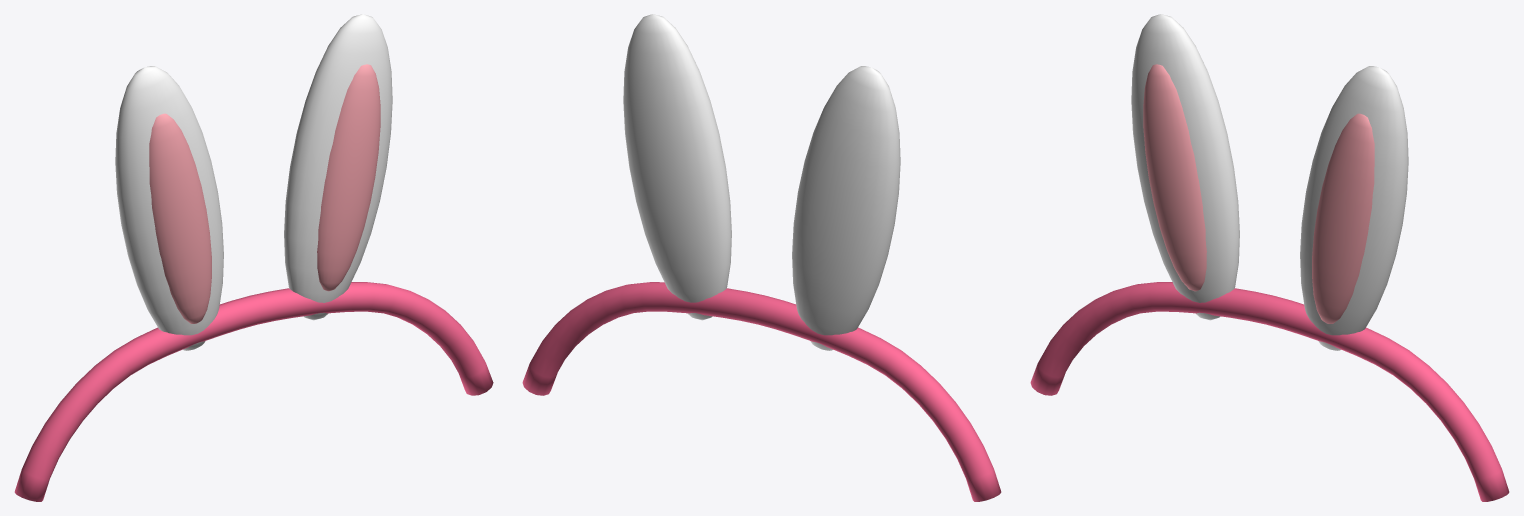
The model's file is bunny_ears.fbx.
3 views of the same model, side by side, from view 1: azimuth 30°, elevation 25°; view 2: azimuth 150°, elevation 25°; view 3: azimuth 330°, elevation 25° (orthographic).
Parts seen in each view (by area): view 1: BunnyEar (×2), BunnyEarIn (×2), BunnyBand; view 2: BunnyEar (×2), BunnyBand; view 3: BunnyEar (×2), BunnyEarIn (×2), BunnyBand.
Boxes of the visible parts, x1,y1,x2,y2 form: BunnyEar (×2): (115,14,392,350); BunnyEarIn (×2): (149,64,380,323); BunnyBand: (14,282,493,501); BunnyEar (×2): (623,14,900,350); BunnyBand: (522,282,1001,501); BunnyEar (×2): (1131,14,1408,350); BunnyEarIn (×2): (1143,64,1374,323); BunnyBand: (1030,282,1509,501).
Bounding box in the file's own units: 14.64 × 11.94 × 1.7.
